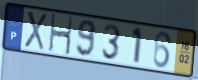1: (131, 26, 143, 66)
3: (101, 23, 122, 62)
6: (152, 30, 173, 70)
9: (74, 19, 97, 58)
H: (48, 12, 74, 57)
X: (23, 9, 48, 52)
